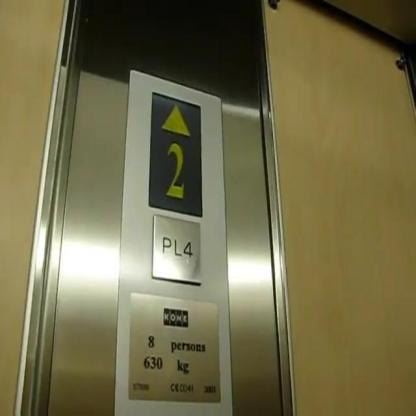PL4: (152, 212, 202, 284)
led: (148, 90, 202, 218)
